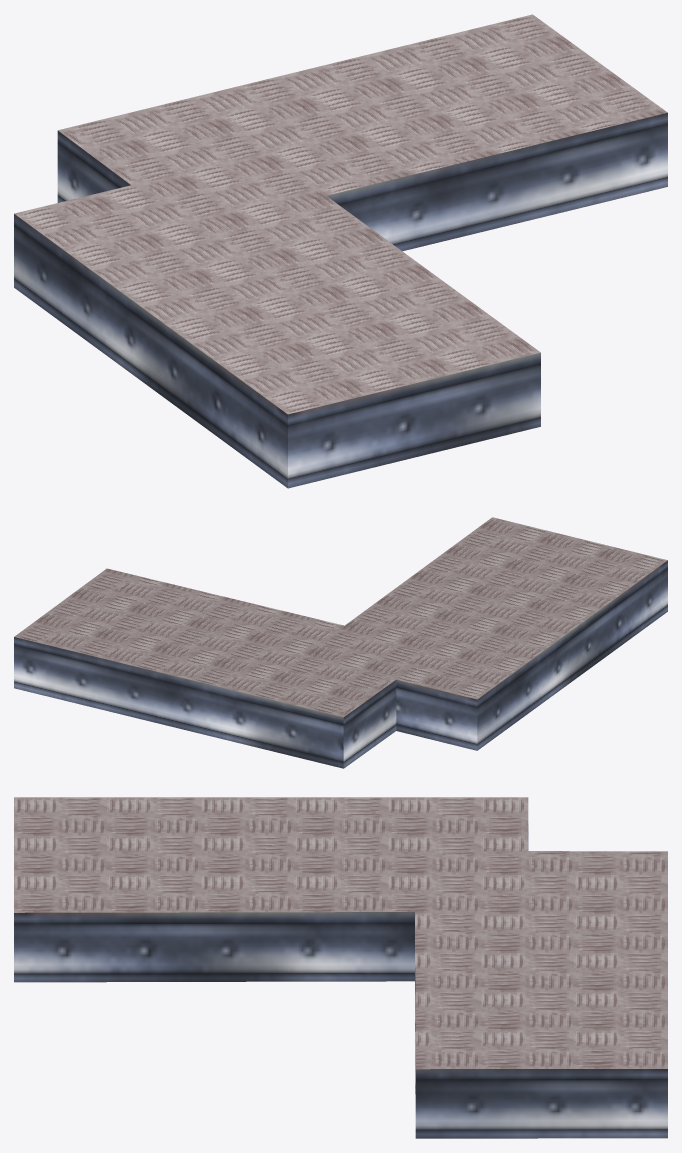
3 renders of one model, top to bottom at view 1: azimuth 30°, elevation 25°; view 2: azimuth 150°, elevation 25°; view 3: azimuth 270°, elevation 25°, orthographic. The views are drawn at different scales.
Parts seen in each view (by area): view 1: Object21; view 2: Object21; view 3: Object21.
Boxes of the visible parts, box(x1,y1,x2,y2) form: Object21: box(14, 14, 667, 488); Object21: box(14, 517, 667, 768); Object21: box(14, 797, 667, 1138).
Size of the model in its own units: 595 by 71.68 by 605.
Materials: 2 (2 with a texture image).
